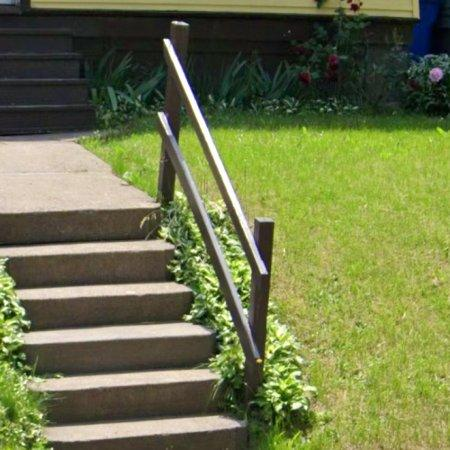stairs: (0, 135, 246, 450)
